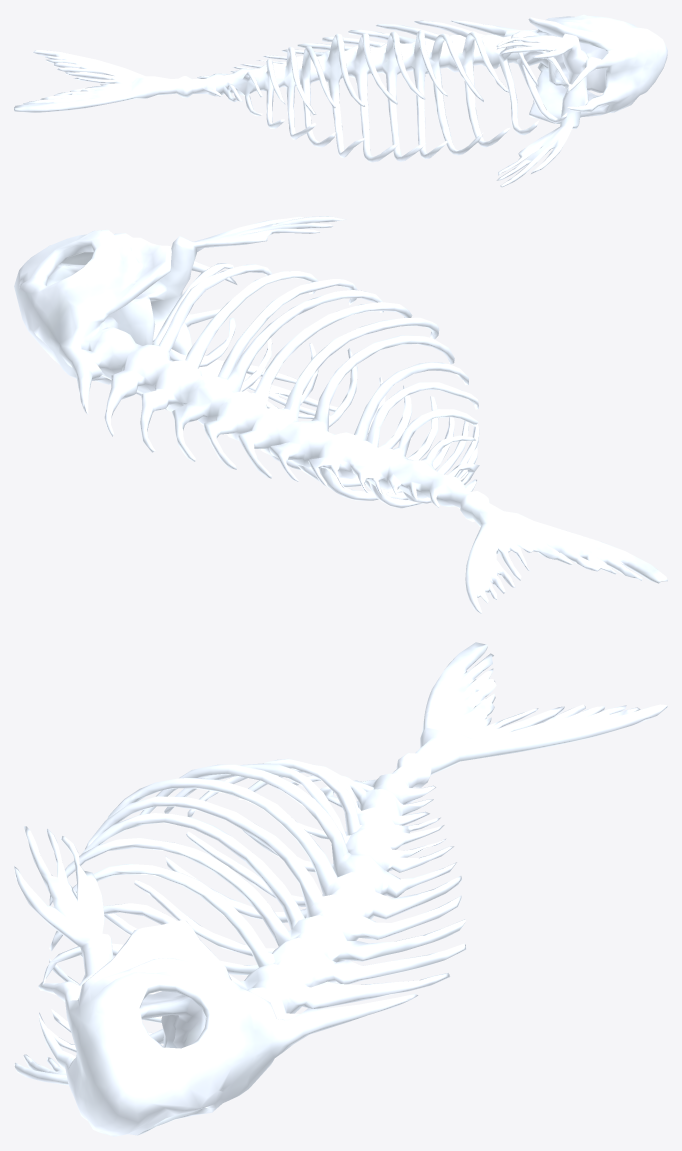
File: glow_bone_common.glb
The picture shows the model from 3 angles, top to bottom: view 1: azimuth 30°, elevation 25°; view 2: azimuth 150°, elevation 25°; view 3: azimuth 270°, elevation 25°; orthographic projection. The views are drawn at different scales.
Parts seen in each view (by area): view 1: glow_bone_common; view 2: glow_bone_common; view 3: glow_bone_common.
Part boxes in pixels (x1,y1,x2,y2): glow_bone_common: [14, 14, 667, 187]; glow_bone_common: [14, 216, 667, 613]; glow_bone_common: [14, 642, 667, 1136].
Size of the model in its own units: 0.3 by 0.0702 by 0.1795.
Materials: 1 (1 with a texture image).
